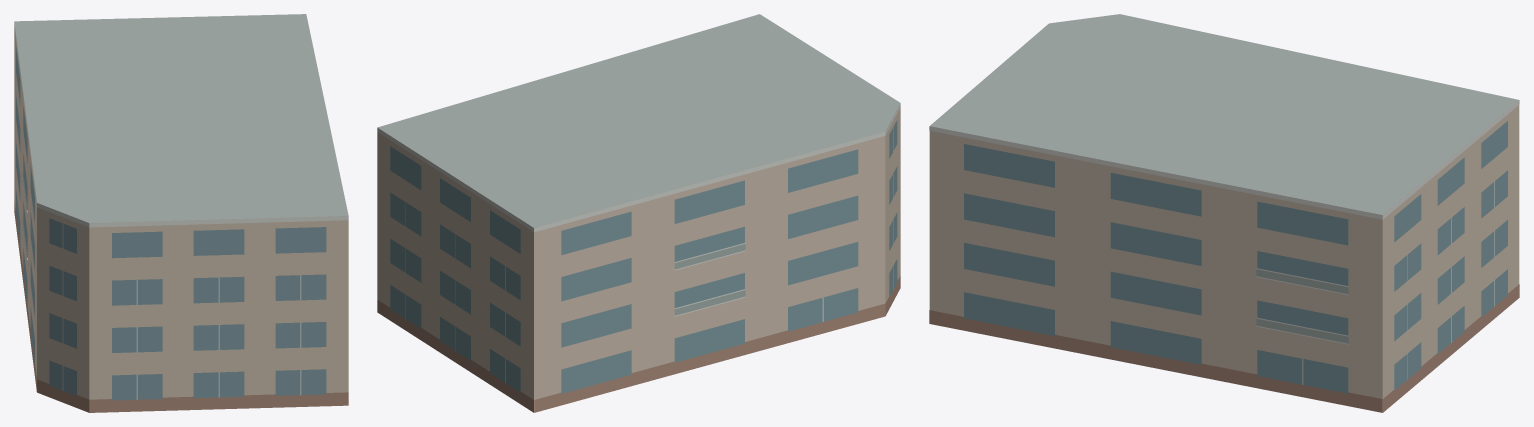
The model's file is survey-upis-32669208.glb.
3 renders of one model, left to right at view 1: azimuth 30°, elevation 25°; view 2: azimuth 150°, elevation 25°; view 3: azimuth 270°, elevation 25°, orthographic. The views are drawn at different scales.
Parts seen in each view (by area): view 1: survey-upis-32669208.tmp; view 2: survey-upis-32669208.tmp; view 3: survey-upis-32669208.tmp.
Part boxes in pixels (box(x1,y1,x2,y2)): survey-upis-32669208.tmp: box(14, 14, 348, 412); survey-upis-32669208.tmp: box(377, 14, 900, 412); survey-upis-32669208.tmp: box(929, 14, 1519, 412).
Size of the model in its own units: 23.02 by 10.55 by 28.53.
